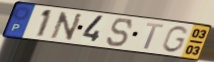1: (36, 9, 55, 39)
4: (81, 14, 105, 46)
G: (160, 25, 190, 54)
N: (48, 11, 84, 42)
S: (105, 17, 135, 48)
T: (142, 21, 166, 51)
